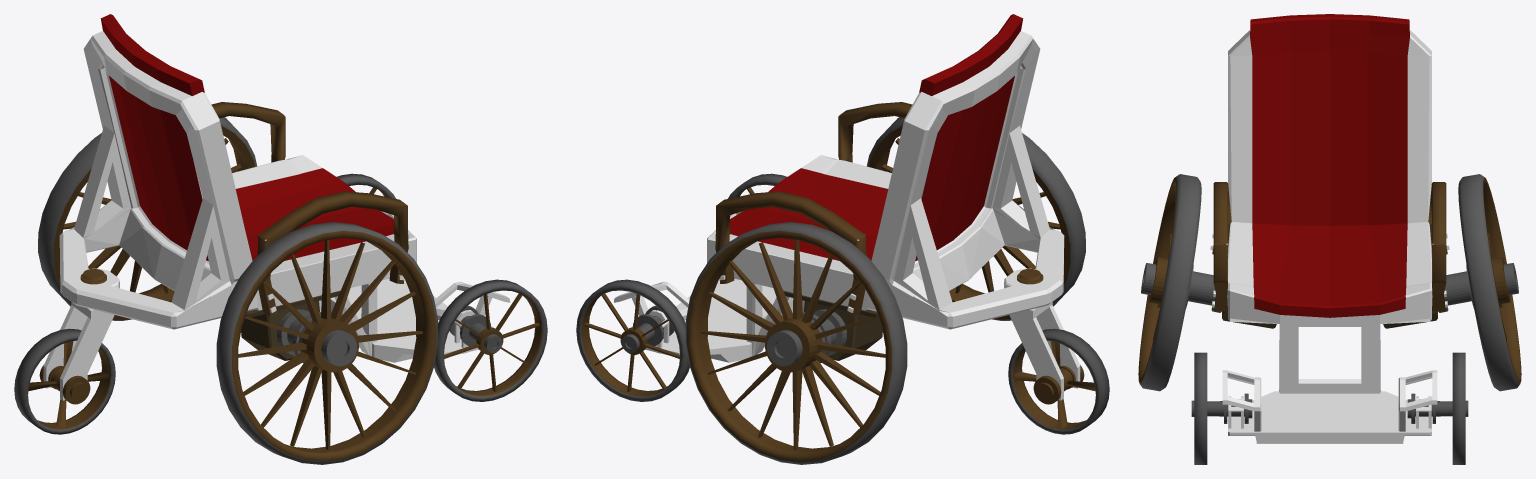
Rendered from wheelChair.fbx.
3 renders of one model, left to right at view 1: azimuth 30°, elevation 25°; view 2: azimuth 150°, elevation 25°; view 3: azimuth 270°, elevation 25°, orthographic. The views are drawn at different scales.
Parts seen in each view (by area): view 1: 001 Chair_2, 002 main wheels_3, 005 front wheels_4, 008 stabiliser wheel_5, Cube_9, 003 main wheel holders_8; view 2: 001 Chair_2, 002 main wheels_3, 005 front wheels_4, 008 stabiliser wheel_5, Cube_9, 003 main wheel holders_8; view 3: 001 Chair_2, 002 main wheels_3, 005 front wheels_4, 004 front forks_6, 003 main wheel holders_8.
Part boxes in pixels (x1,y1,x2,y2): 001 Chair_2: (59, 14, 509, 362); 002 main wheels_3: (38, 117, 438, 464); 005 front wheels_4: (337, 173, 547, 401); 008 stabiliser wheel_5: (14, 328, 115, 434); Cube_9: (43, 302, 114, 400); 003 main wheel holders_8: (241, 290, 340, 360); 001 Chair_2: (614, 14, 1064, 362); 002 main wheels_3: (685, 117, 1085, 464); 005 front wheels_4: (576, 173, 786, 401); 008 stabiliser wheel_5: (1008, 328, 1109, 434); Cube_9: (1009, 302, 1080, 400); 003 main wheel holders_8: (783, 290, 882, 360); 001 Chair_2: (1210, 14, 1449, 443); 002 main wheels_3: (1138, 174, 1521, 391); 005 front wheels_4: (1191, 352, 1468, 464); 004 front forks_6: (1228, 396, 1431, 428); 003 main wheel holders_8: (1222, 311, 1437, 328).
Bounding box in the file's own units: 429 × 328 × 352.
